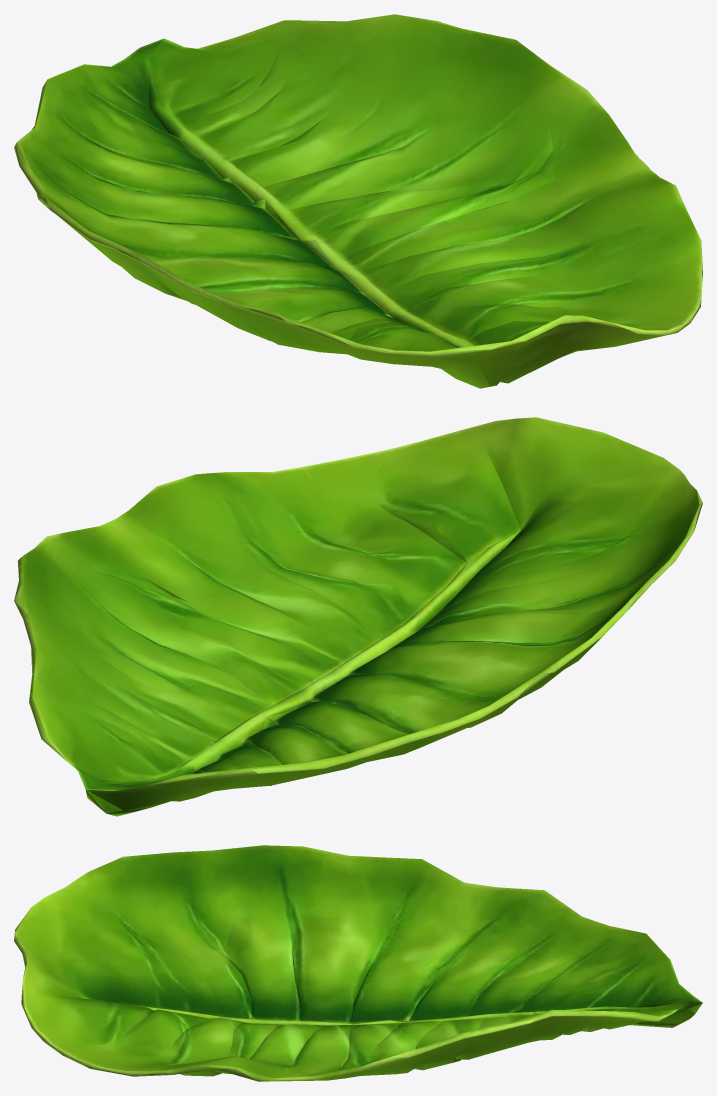
The model's file is m2LeafPlatformV2.glb.
3 views of the same model, one above another, from view 1: azimuth 30°, elevation 25°; view 2: azimuth 150°, elevation 25°; view 3: azimuth 270°, elevation 25° (orthographic). The views are drawn at different scales.
Parts seen in each view (by area): view 1: model; view 2: model; view 3: model.
Part boxes in pixels (x1,y1,x2,y2): model: [14, 14, 702, 388]; model: [14, 417, 702, 816]; model: [14, 845, 702, 1081].
Size of the model in its own units: 1.31 by 0.3251 by 1.9.
1 material, 1 textured.
